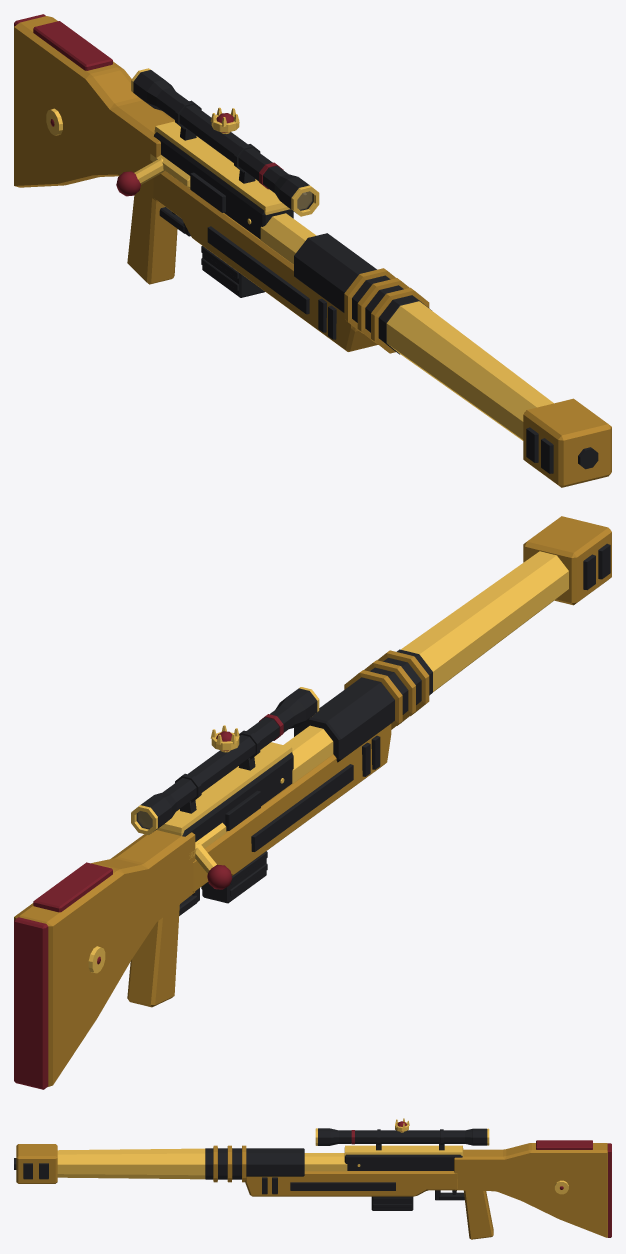
File: w_sniper@sniper_golden.glb
3 views of the same model, one above another, from view 1: azimuth 30°, elevation 25°; view 2: azimuth 150°, elevation 25°; view 3: azimuth 270°, elevation 25° (orthographic). The views are drawn at different scales.
Parts seen in each view (by area): view 1: stock_wzA__gold__pb8862b, barrel_wzB__polish__pf2c14e, barrel_wzB__gold__pb8862b, scope_wzN__black__p1f2024, barrel_wzB__black__p1f2024, deck_wzB__polish__pf2c14e, body_wzB__black__p1f2024, barrel_wzN__gold__pb8862b, stock_wzN__black__p1f2024, trim_wzN__black__p1f2024, stock_wzN__ruby__p7a1c28, mag_wzB__black__p1f2024 (+1 smaller); view 2: stock_wzA__gold__pb8862b, barrel_wzB__polish__pf2c14e, stock_wzB__ruby__p7a1c28, barrel_wzB__black__p1f2024, scope_wzN__black__p1f2024, barrel_wzB__gold__pb8862b, deck_wzB__polish__pf2c14e, body_wzB__black__p1f2024, barrel_wzN__gold__pb8862b, stock_wzN__black__p1f2024, stock_wzN__ruby__p7a1c28, trim_wzN__black__p1f2024 (+1 smaller); view 3: stock_wzA__gold__pb8862b, barrel_wzB__polish__pf2c14e, barrel_wzB__black__p1f2024, scope_wzN__black__p1f2024, body_wzB__black__p1f2024, barrel_wzB__gold__pb8862b, deck_wzB__polish__pf2c14e, stock_wzN__black__p1f2024, mag_wzB__black__p1f2024, barrel_wzN__gold__pb8862b, stock_wzN__ruby__p7a1c28, stock_wzB__ruby__p7a1c28 (+3 smaller).
Part boxes in pixels (x1,y1,x2,y2): stock_wzA__gold__pb8862b: (14,16,378,351); barrel_wzB__polish__pf2c14e: (260,213,553,440); barrel_wzB__gold__pb8862b: (523,398,611,487); scope_wzN__black__p1f2024: (133,70,313,213); barrel_wzB__black__p1f2024: (294,233,431,354); deck_wzB__polish__pf2c14e: (154,121,290,214); body_wzB__black__p1f2024: (154,132,293,239); barrel_wzN__gold__pb8862b: (344,268,429,353); stock_wzN__black__p1f2024: (207,226,309,314); trim_wzN__black__p1f2024: (190,172,598,473); stock_wzN__ruby__p7a1c28: (33,21,112,126); mag_wzB__black__p1f2024: (201,246,264,297); stock_wzA__gold__pb8862b: (14,724,391,1086); barrel_wzB__polish__pf2c14e: (283,551,568,783); stock_wzB__ruby__p7a1c28: (14,917,48,1089); barrel_wzB__black__p1f2024: (294,649,432,762); scope_wzN__black__p1f2024: (136,688,317,830); barrel_wzB__gold__pb8862b: (523,516,611,605); deck_wzB__polish__pf2c14e: (156,742,292,835); body_wzB__black__p1f2024: (182,752,293,841); barrel_wzN__gold__pb8862b: (344,650,429,729); stock_wzN__black__p1f2024: (251,764,353,851); stock_wzN__ruby__p7a1c28: (33,862,112,964); trim_wzN__black__p1f2024: (225,543,610,830); stock_wzA__gold__pb8862b: (245,1143,607,1239); barrel_wzB__polish__pf2c14e: (57,1148,347,1179); barrel_wzB__black__p1f2024: (205,1148,304,1179); scope_wzN__black__p1f2024: (318,1128,487,1150); body_wzB__black__p1f2024: (344,1154,462,1170); barrel_wzB__gold__pb8862b: (16,1144,57,1183); deck_wzB__polish__pf2c14e: (344,1145,463,1156); stock_wzN__black__p1f2024: (290,1182,395,1190); mag_wzB__black__p1f2024: (371,1196,413,1210); barrel_wzN__gold__pb8862b: (213,1145,246,1182); stock_wzN__ruby__p7a1c28: (536,1140,592,1189); stock_wzB__ruby__p7a1c28: (607,1143,611,1237).
Size of the model in its own units: 0.1868 by 0.4477 by 2.09.
